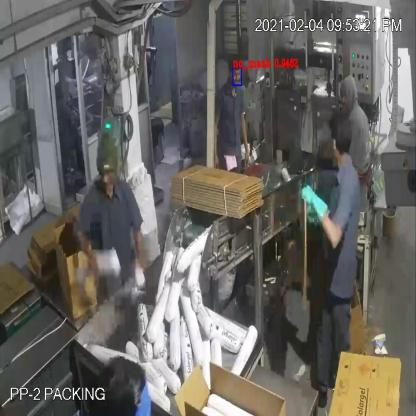glove: (294, 171, 335, 232)
no_glove: (70, 223, 98, 282), (237, 104, 256, 176), (129, 218, 148, 285), (209, 106, 226, 180)
